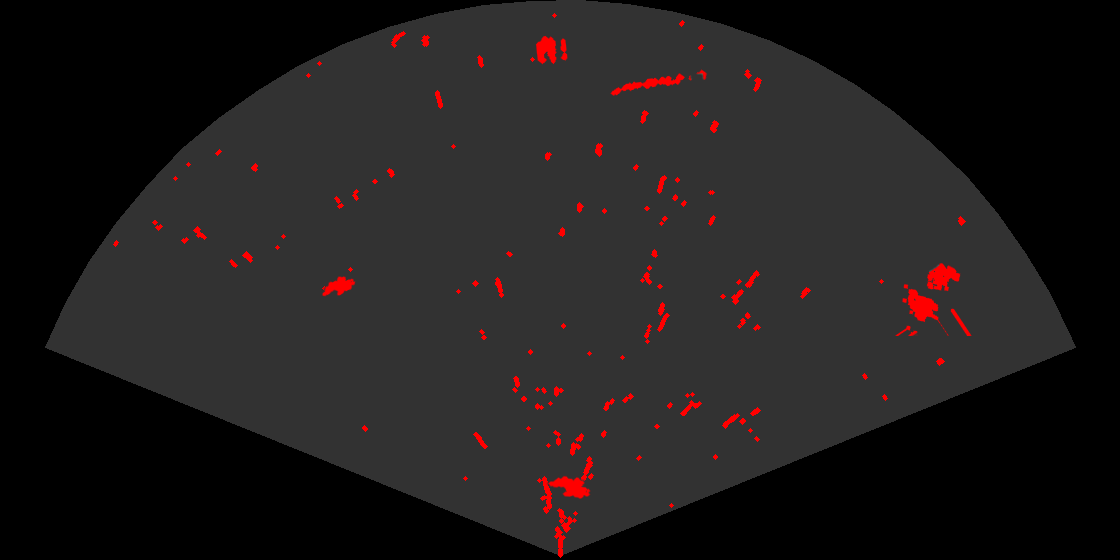AUV: (546, 474, 592, 500), (321, 275, 357, 298)
ball: (534, 34, 569, 66)
cage: (894, 261, 973, 336)
chain: (609, 68, 708, 97)
